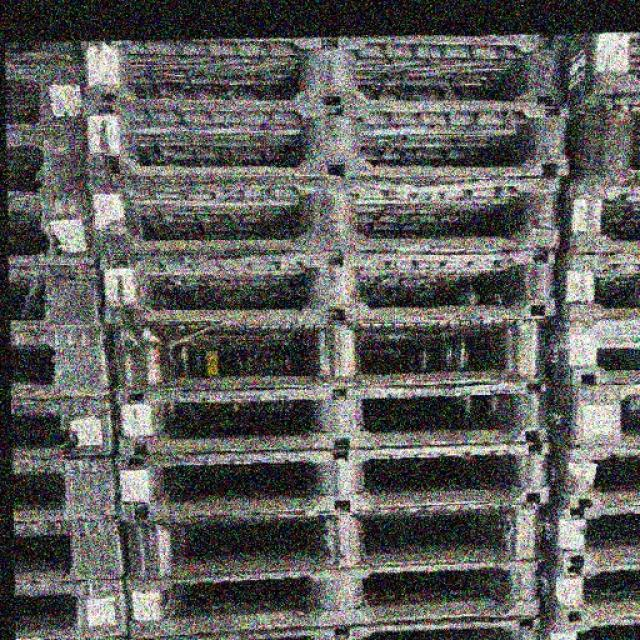igps: (78, 94, 577, 185), (85, 168, 571, 260), (73, 29, 571, 114), (96, 242, 564, 331), (109, 436, 561, 526), (112, 494, 548, 584), (120, 549, 550, 640), (111, 375, 555, 461), (104, 318, 552, 397), (144, 605, 548, 640), (0, 321, 122, 403), (5, 453, 131, 527), (9, 515, 132, 588), (10, 569, 136, 640), (8, 392, 126, 467), (553, 87, 639, 188), (0, 42, 92, 136), (2, 260, 114, 336), (532, 312, 640, 390), (549, 168, 640, 260), (0, 193, 105, 272), (0, 124, 98, 204), (533, 555, 640, 628), (535, 379, 640, 453), (533, 440, 640, 512), (531, 500, 640, 567), (549, 246, 640, 325), (551, 28, 639, 109), (533, 609, 640, 639)
